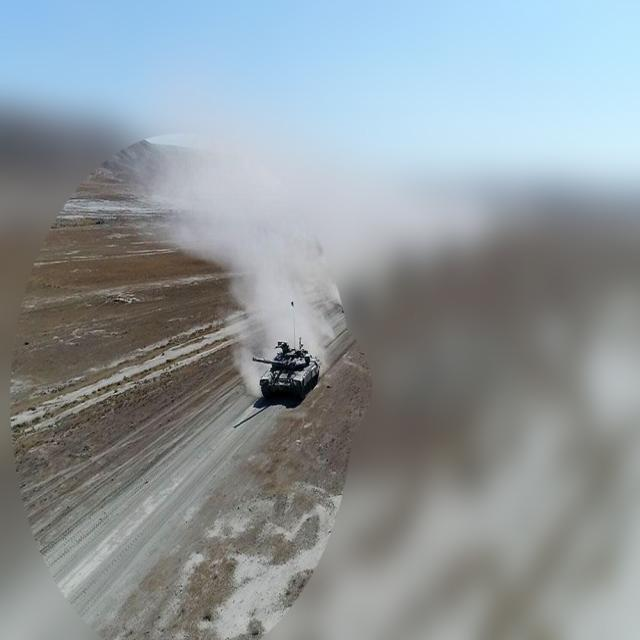tank: (252, 337, 321, 400)
